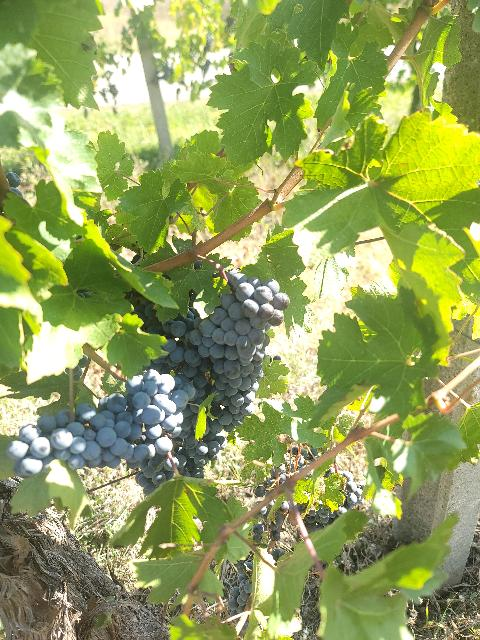grapes: (184, 269, 290, 431), (6, 392, 142, 478), (125, 369, 190, 485)
